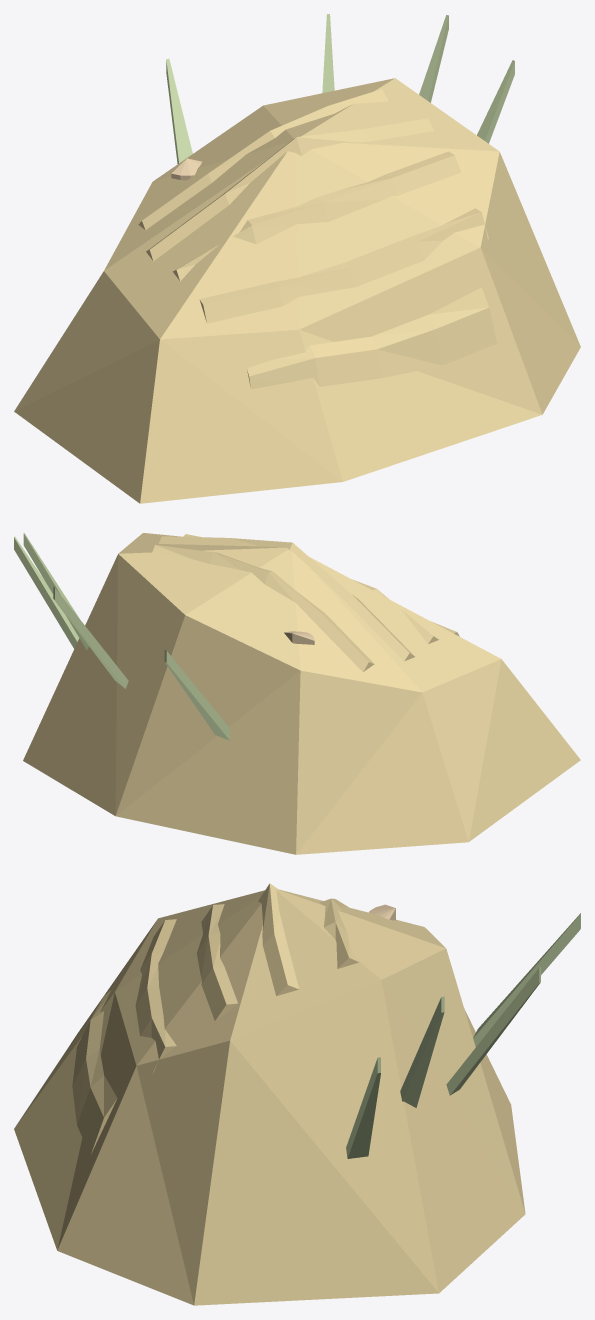
The model's file is world_sand_bank.fbx.
The picture shows the model from 3 angles, top to bottom: view 1: azimuth 30°, elevation 25°; view 2: azimuth 150°, elevation 25°; view 3: azimuth 270°, elevation 25°; orthographic projection. The views are drawn at different scales.
Parts seen in each view (by area): view 1: world_sand_bank_mesh; view 2: world_sand_bank_mesh; view 3: world_sand_bank_mesh.
Part boxes in pixels (left/top/right/bottom): world_sand_bank_mesh: left=14, top=14, right=580, bottom=503; world_sand_bank_mesh: left=14, top=533, right=580, bottom=854; world_sand_bank_mesh: left=14, top=883, right=580, bottom=1305.
Bounding box in the file's own units: 0.926 × 0.452 × 0.7869.
